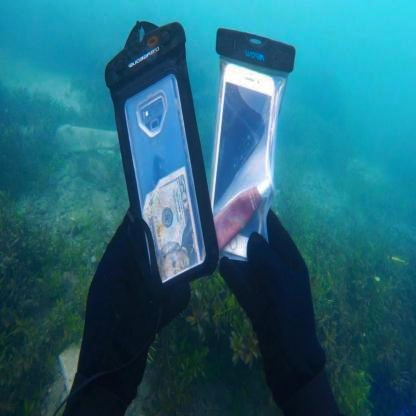cellphone: (122, 71, 208, 287), (206, 59, 276, 262)
